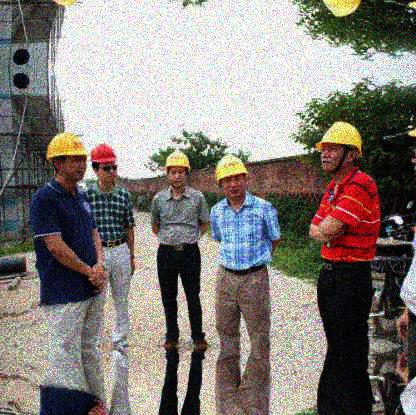helmet: (315, 120, 362, 176), (44, 132, 90, 185), (217, 154, 248, 200), (90, 143, 117, 183), (164, 150, 189, 192)
